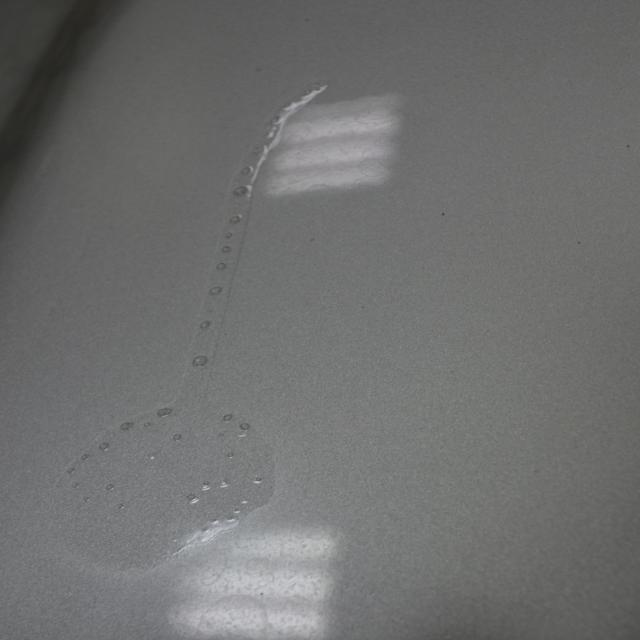dirt: (624, 142, 632, 150), (439, 210, 447, 217), (576, 239, 583, 244)
runs: (49, 78, 328, 564)
water marks: (195, 589, 283, 639)
